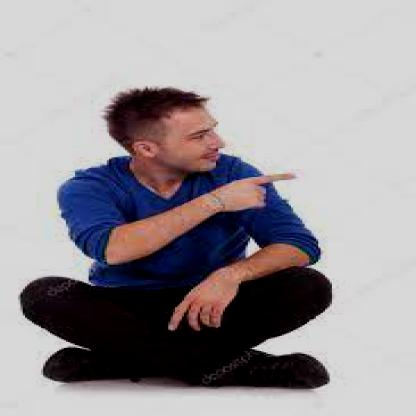Left: (192, 164, 317, 225)
